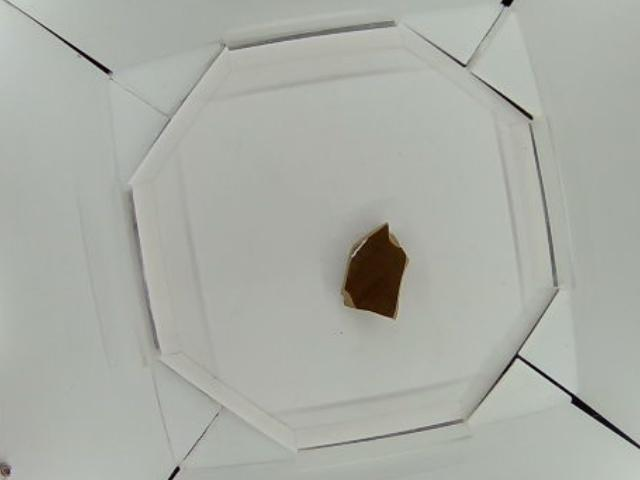China: (338, 221, 411, 321)
